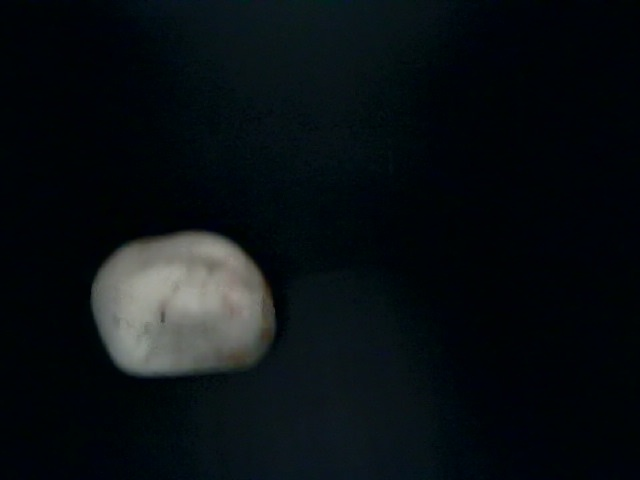QTLJ: (470, 291, 640, 479)
